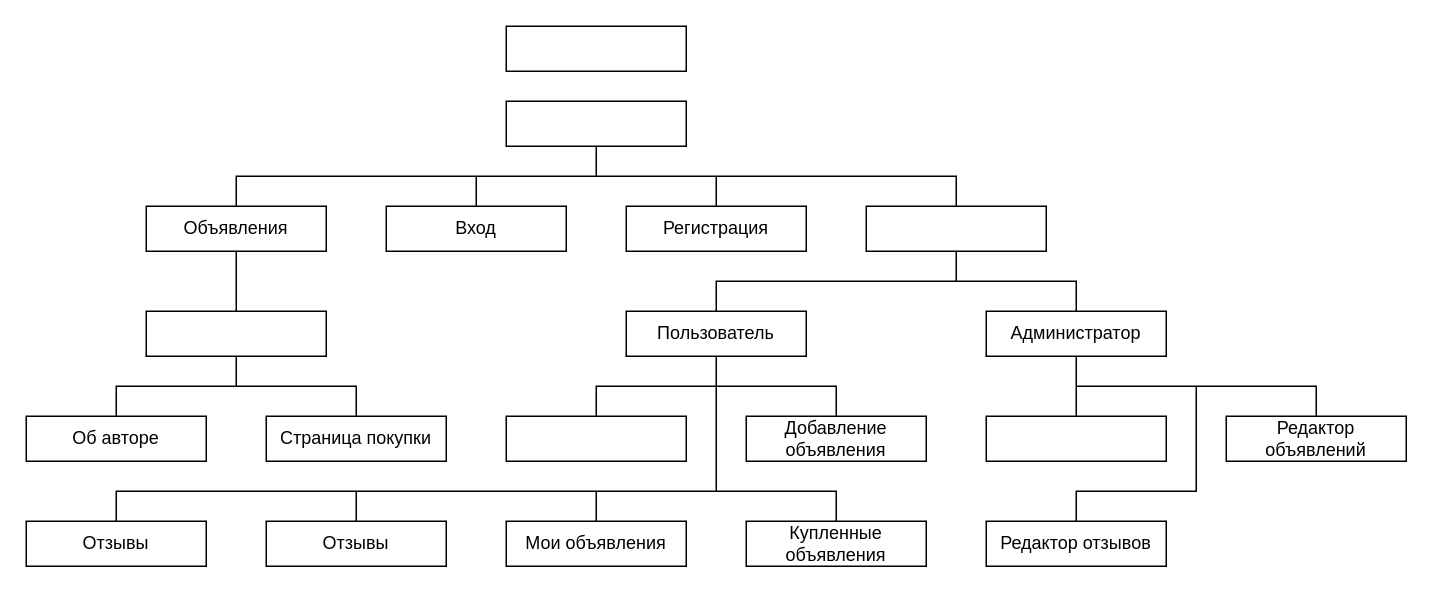
The diagram is 1433 pixels wide and 593 high, and some of its shapes have lost their labels. The centre of each missing label's shape, as x and y in pixels:
"localhost" goes at (x=595, y=48).
"Главная" goes at (x=595, y=123).
"Личный кабинет" goes at (x=955, y=228).
"Объявление" goes at (x=235, y=333).
"Персональные данные" goes at (x=595, y=438).
"Редактор пользователей" goes at (x=1075, y=438).
